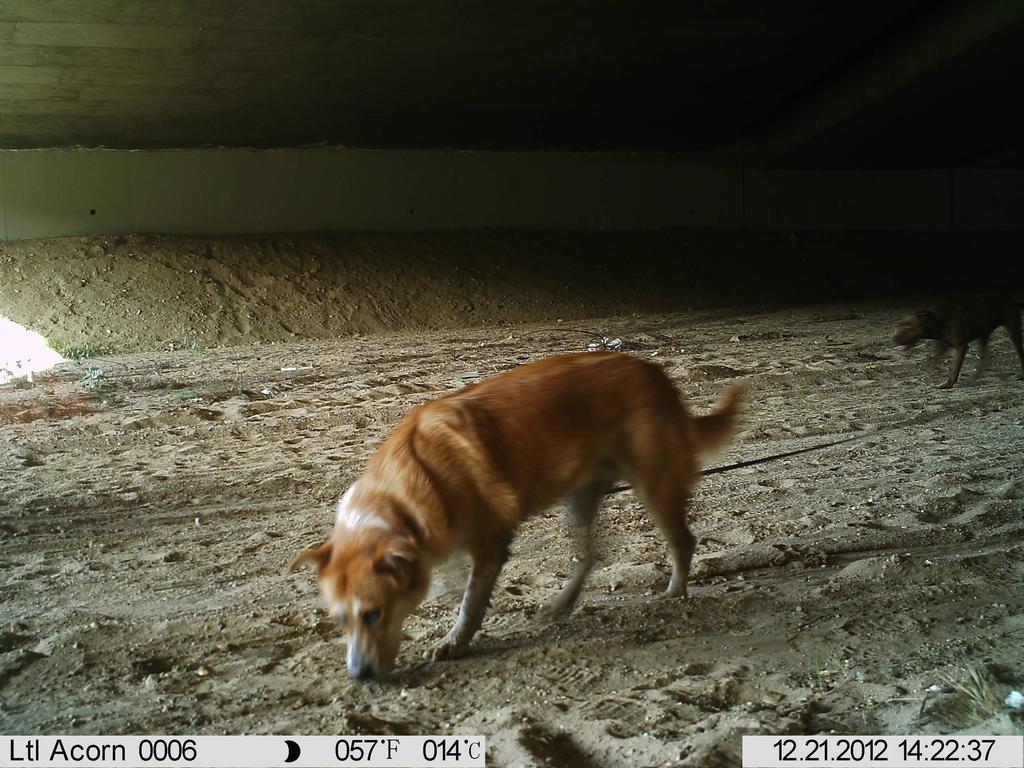dog: (295, 333, 748, 683), (866, 276, 1022, 392)
